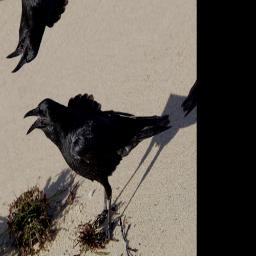Crow: (21, 22, 189, 256)
